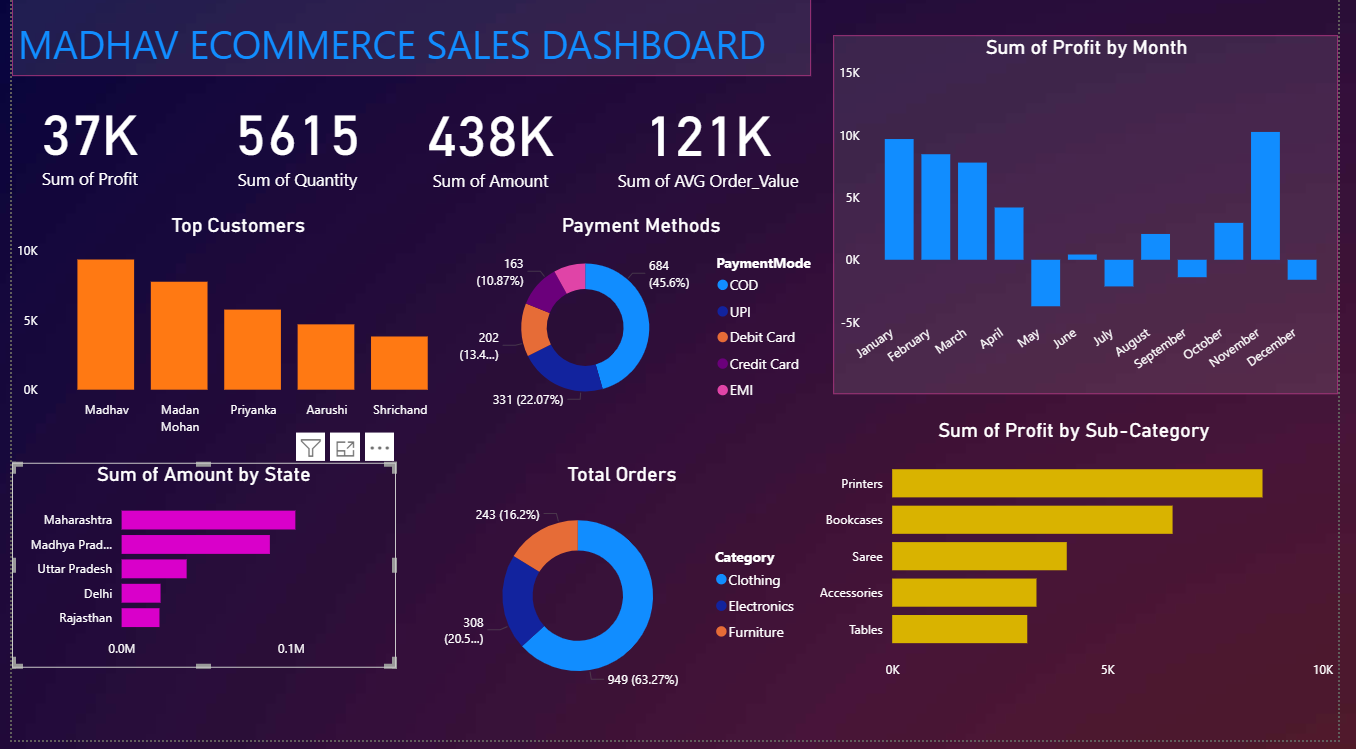

This screenshot's page, from the dashboard's own definition file:
{"tool":"powerbi","page":{"name":"Page 1","canvas":[1280,720],"ordinal":0},"visuals":[{"type":"textbox","box":[0,0,771.2,79.6],"z":0},{"type":"columnChart","fields":{"Y":["Sum(Details.Profit)"],"Category":["Orders.Order Date.Variation.Date Hierarchy.Month"]},"box":[792.6,39.8,487.4,346.2],"z":1000},{"type":"barChart","fields":{"Category":["Details.Sub-Category"],"Y":["Sum(Details.Profit)"]},"box":[769.7,410.2,510.3,260.6],"z":1001},{"type":"donutChart","title":"Total Orders","fields":{"Category":["Details.Category"],"Y":["CountNonNull(Details.Order ID)"]},"box":[409,452.4,359.5,235.3],"z":1002},{"type":"donutChart","title":"Payment Methods","fields":{"Y":["CountNonNull(Details.Order ID)"],"Category":["Details.PaymentMode"]},"box":[422.3,212.3,370.4,197.9],"z":1003},{"type":"card","fields":{"Values":["Sum(Details.Profit)"]},"box":[0,83.2,150.8,113.4],"z":1004},{"type":"card","fields":{"Values":["Sum(Details.Quantity)"]},"box":[200.3,83.2,150.8,114.6],"z":1005},{"type":"card","fields":{"Values":["Sum(Details.Amount)"]},"box":[386.1,84.5,152,114.6],"z":1006},{"type":"card","fields":{"Values":["Sum(Details.AVG Order_Value)"]},"box":[559.8,84.5,224.4,114.6],"z":1007},{"type":"columnChart","title":"Top Customers","fields":{"Category":["Orders.CustomerName"],"Y":["Sum(Details.Amount)"]},"box":[0,212.3,436.7,220.8],"z":1008},{"type":"barChart","fields":{"Category":["Orders.State"],"Y":["Sum(Details.Amount)"]},"box":[0,452.4,370.4,197.9],"z":1009}]}

Visuals, with their boxes in screenshot pixels (x1, y1, x2, y2), scaled from the page's 1280x720 canvas onto the 1356x749 screenshot:
textbox: (x1=0, y1=0, x2=817, y2=83)
columnChart - Sum(Details.Profit) x Orders.Order Date.Variation.Date Hierarchy.Month: (x1=840, y1=41, x2=1355, y2=402)
barChart - Details.Sub-Category x Sum(Details.Profit): (x1=815, y1=427, x2=1355, y2=698)
"Total Orders" donutChart: (x1=433, y1=471, x2=814, y2=715)
"Payment Methods" donutChart: (x1=447, y1=221, x2=840, y2=427)
card - Sum(Details.Profit): (x1=0, y1=87, x2=160, y2=205)
card - Sum(Details.Quantity): (x1=212, y1=87, x2=372, y2=206)
card - Sum(Details.Amount): (x1=409, y1=88, x2=570, y2=207)
card - Sum(Details.AVG Order_Value): (x1=593, y1=88, x2=831, y2=207)
"Top Customers" columnChart: (x1=0, y1=221, x2=463, y2=451)
barChart - Orders.State x Sum(Details.Amount): (x1=0, y1=471, x2=392, y2=676)
